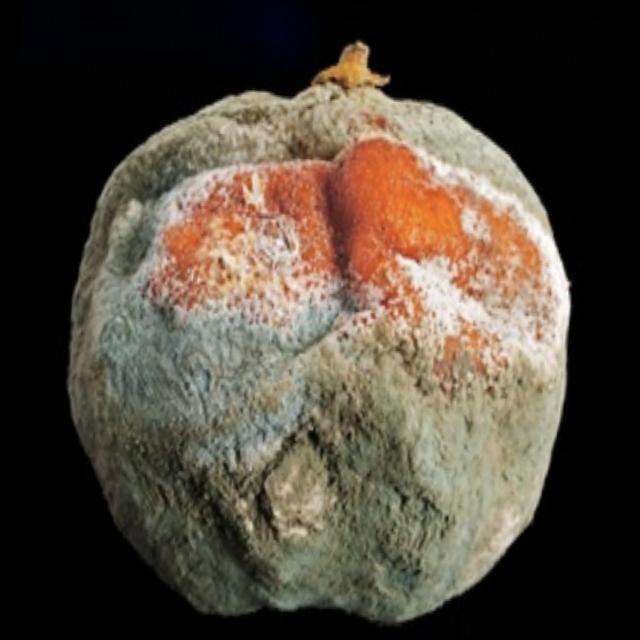rotten-orange: (46, 31, 588, 640)
